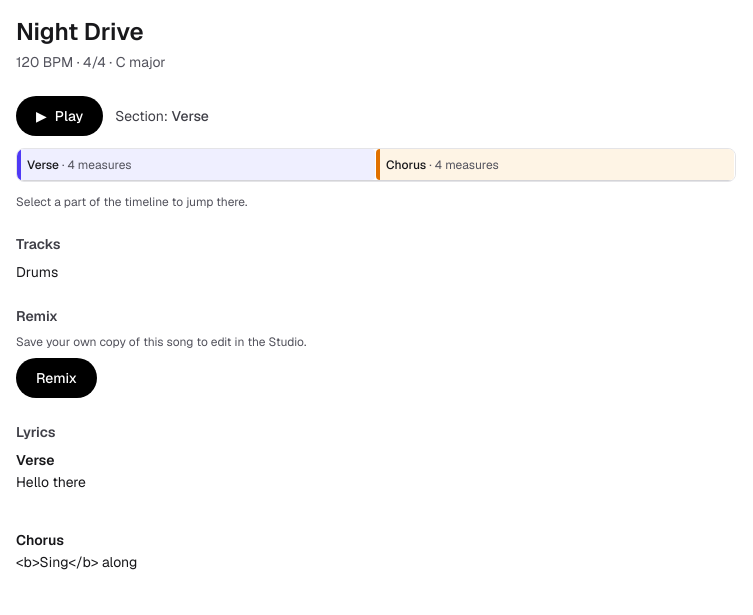
Test: Remix › stays on the page and explains a throttle
Expected: the heading "Night Drive" is shown, [16, 16, 144, 47]
Click the button "Remix" at (56, 378), box [16, 358, 97, 398]
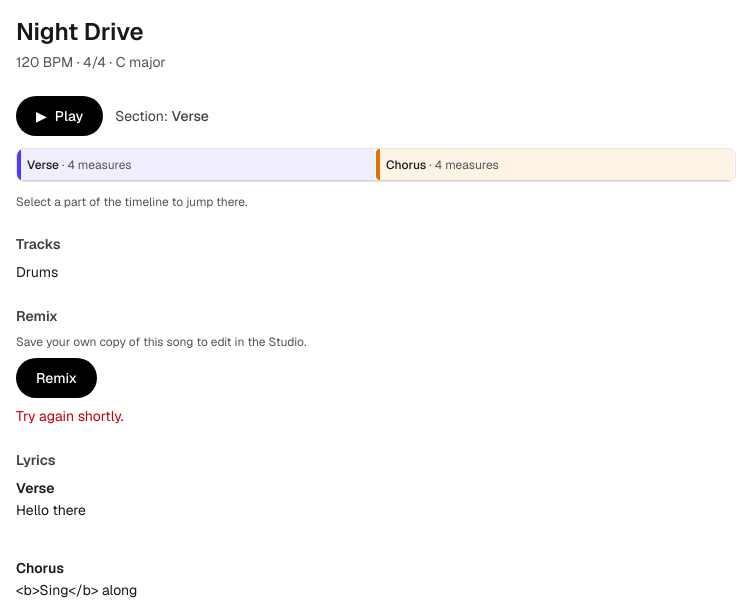
Expected: the message shows "Try again shortly", [16, 407, 124, 425]
